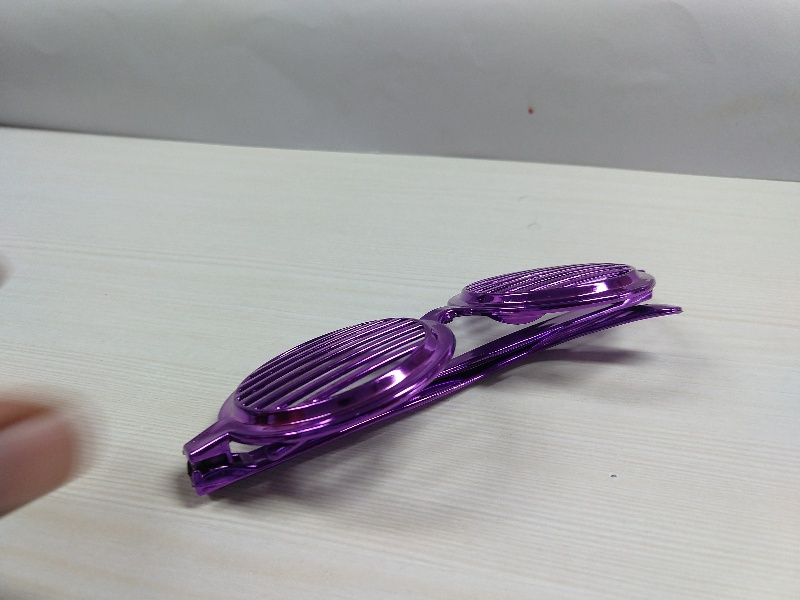shades: (164, 254, 684, 508)
